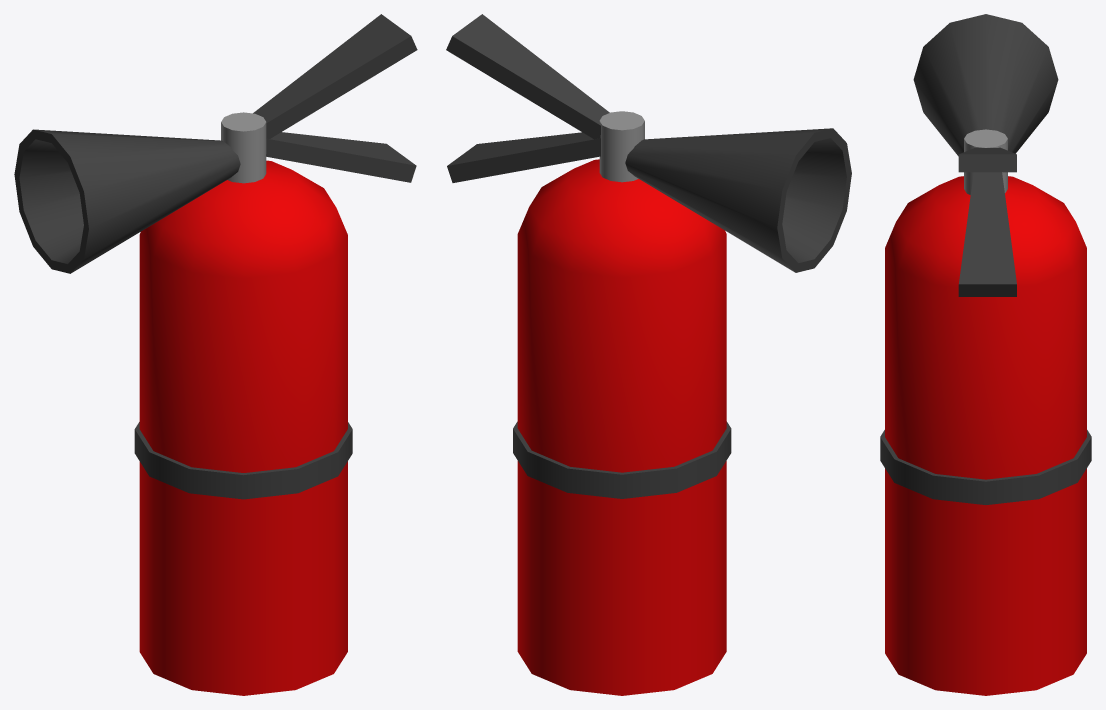
The model's file is Extinguisher.fbx.
3 renders of one model, left to right at view 1: azimuth 30°, elevation 25°; view 2: azimuth 150°, elevation 25°; view 3: azimuth 270°, elevation 25°, orthographic. The views are drawn at different scales.
Parts seen in each view (by area): view 1: FireExtinguisher; view 2: FireExtinguisher; view 3: FireExtinguisher.
Boxes of the visible parts, left/top/right/bottom form: FireExtinguisher: left=14, top=14, right=417, bottom=695; FireExtinguisher: left=446, top=14, right=851, bottom=695; FireExtinguisher: left=880, top=14, right=1091, bottom=695.
Size of the model in its own units: 59.23 by 94.72 by 31.79.
